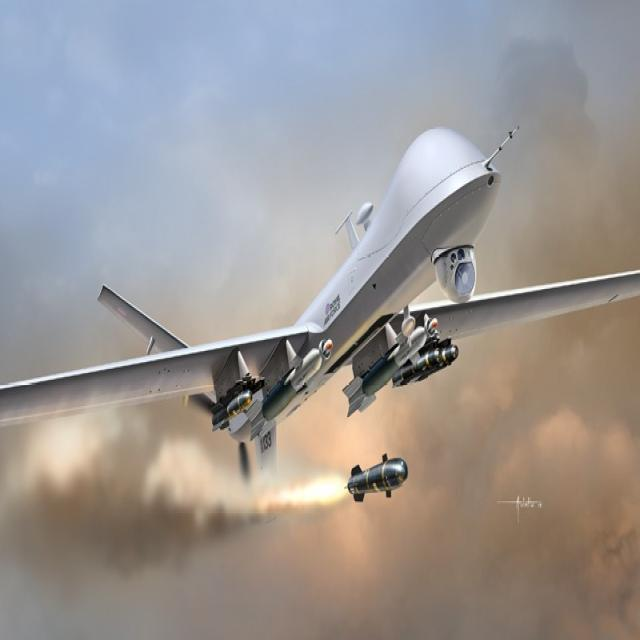MQ9: (0, 88, 640, 571)
